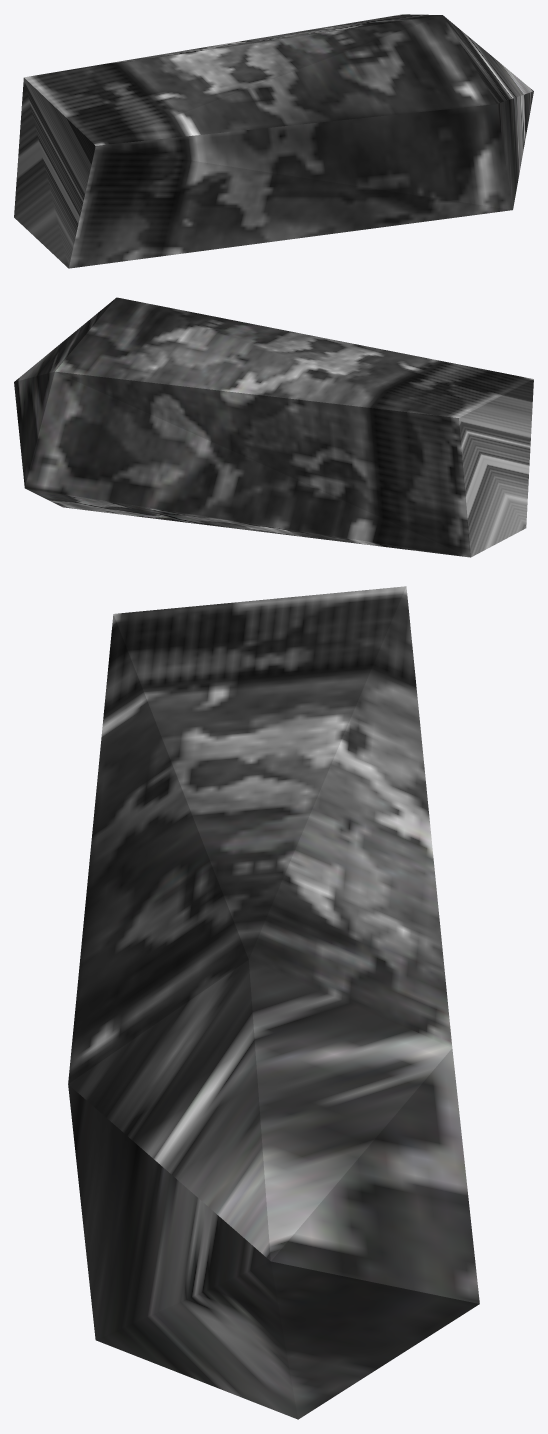
File: R_arm_lowe.obj
3 renders of one model, top to bottom at view 1: azimuth 30°, elevation 25°; view 2: azimuth 150°, elevation 25°; view 3: azimuth 270°, elevation 25°, orthographic. The views are drawn at different scales.
Visible parts, largest first — view 1: R_arm_lowe; view 2: R_arm_lowe; view 3: R_arm_lowe.
Boxes of the visible parts, bbox=[...] form: R_arm_lowe: bbox=[14, 14, 533, 268]; R_arm_lowe: bbox=[14, 297, 533, 557]; R_arm_lowe: bbox=[68, 586, 479, 1419].
Bounding box in the file's own units: 0.8163 × 0.3382 × 0.2987.
